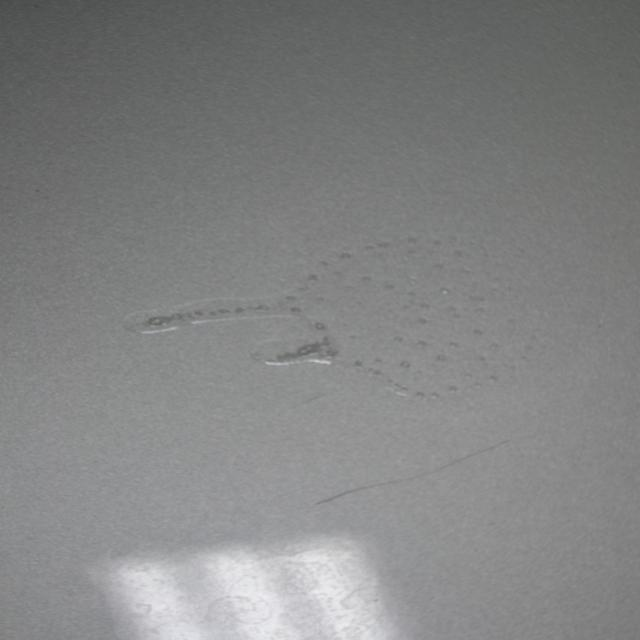runs: (116, 238, 527, 397)
